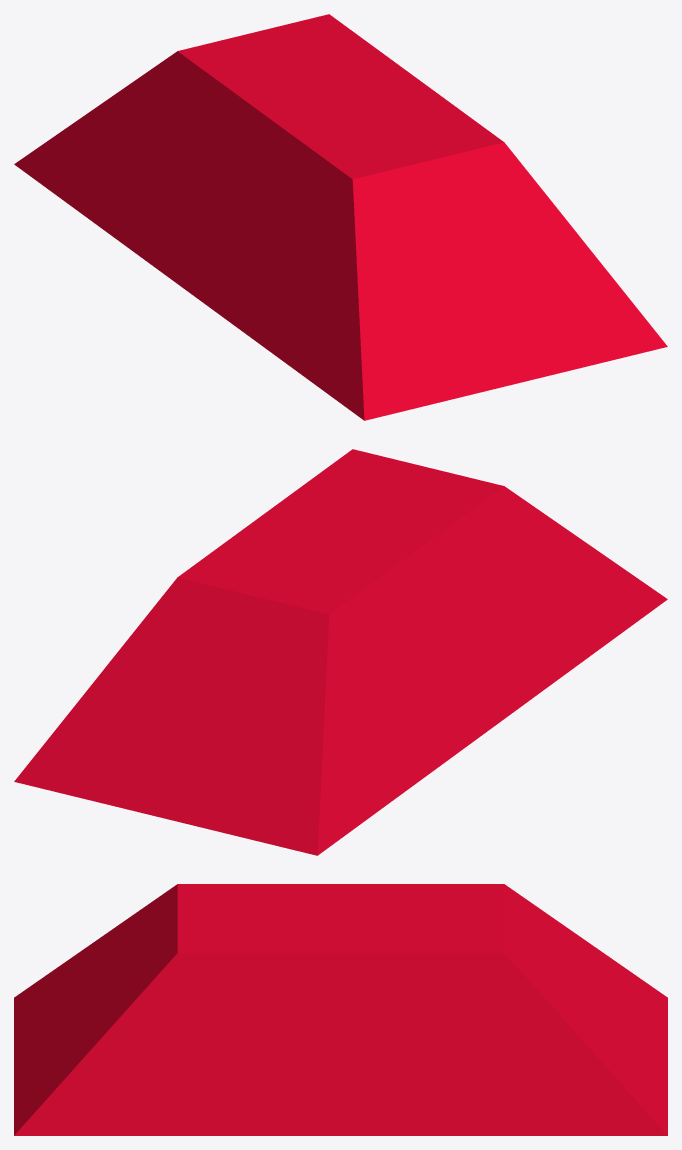
File: pieza2Planeta5.fbx
3 views of the same model, one above another, from view 1: azimuth 30°, elevation 25°; view 2: azimuth 150°, elevation 25°; view 3: azimuth 270°, elevation 25° (orthographic). The views are drawn at different scales.
Parts seen in each view (by area): view 1: Cube; view 2: Cube; view 3: Cube.
Part boxes in pixels (x1,y1,x2,y2): Cube: (14,14,667,420); Cube: (14,449,667,855); Cube: (14,884,667,1135).
Bounding box in the file's own units: 200 × 100 × 400.
